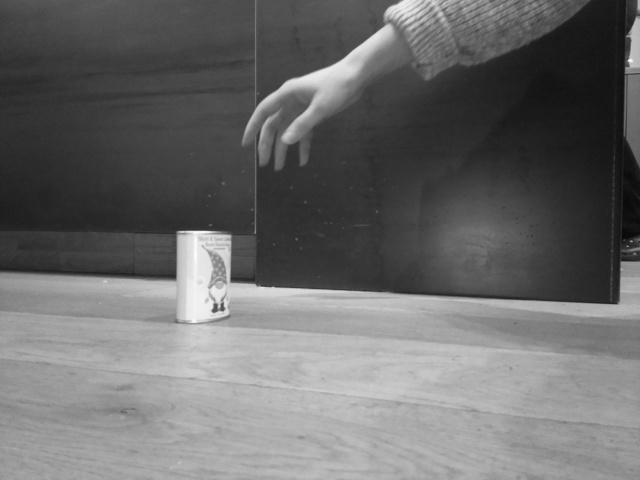gnome: (195, 243, 231, 315)
